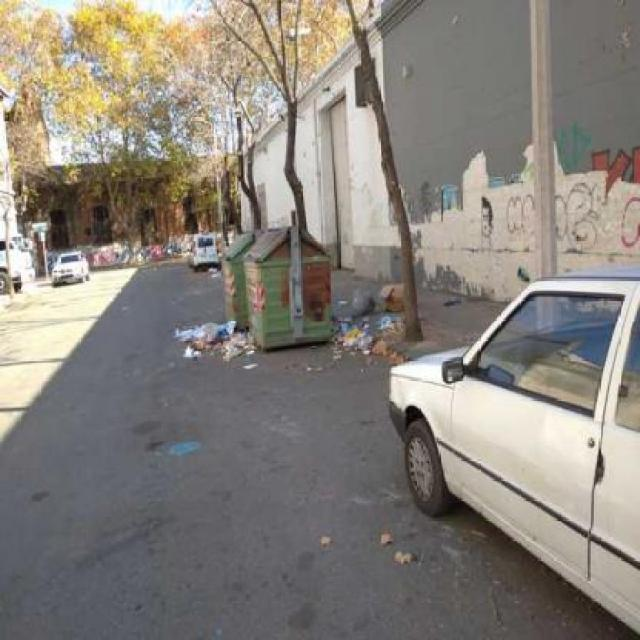garbage: (166, 322, 252, 369), (334, 315, 403, 363), (343, 290, 378, 333), (380, 265, 404, 314)
